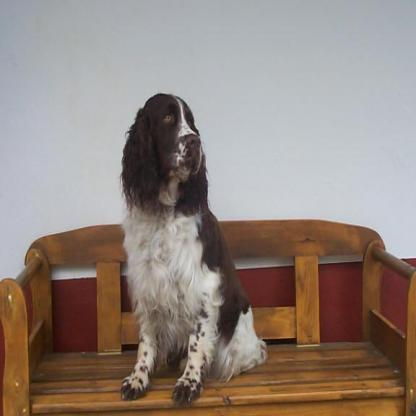English_springer: (118, 90, 264, 400)
